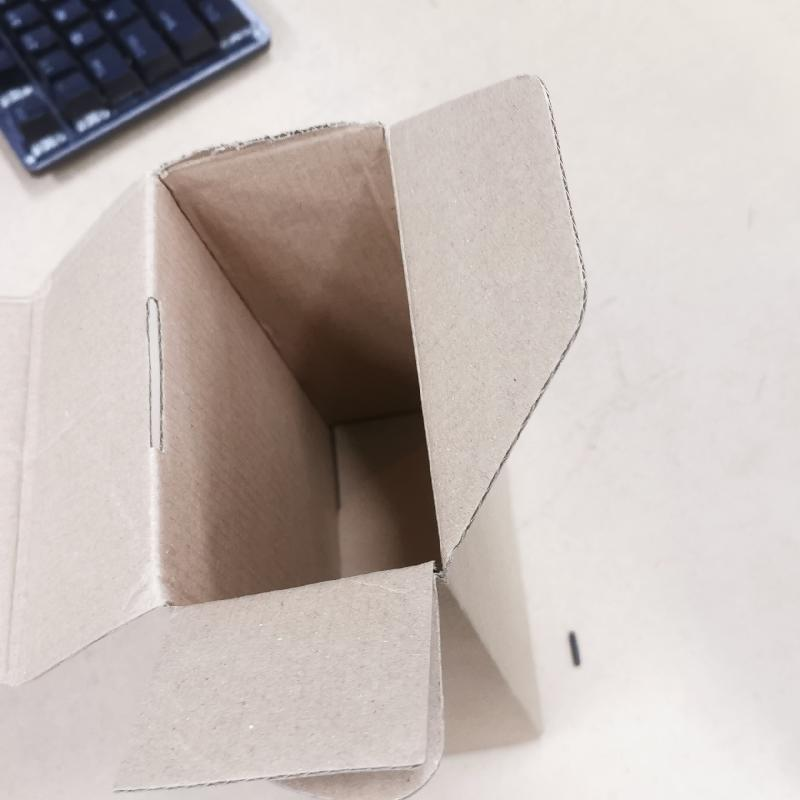boxes: (0, 75, 595, 799)
